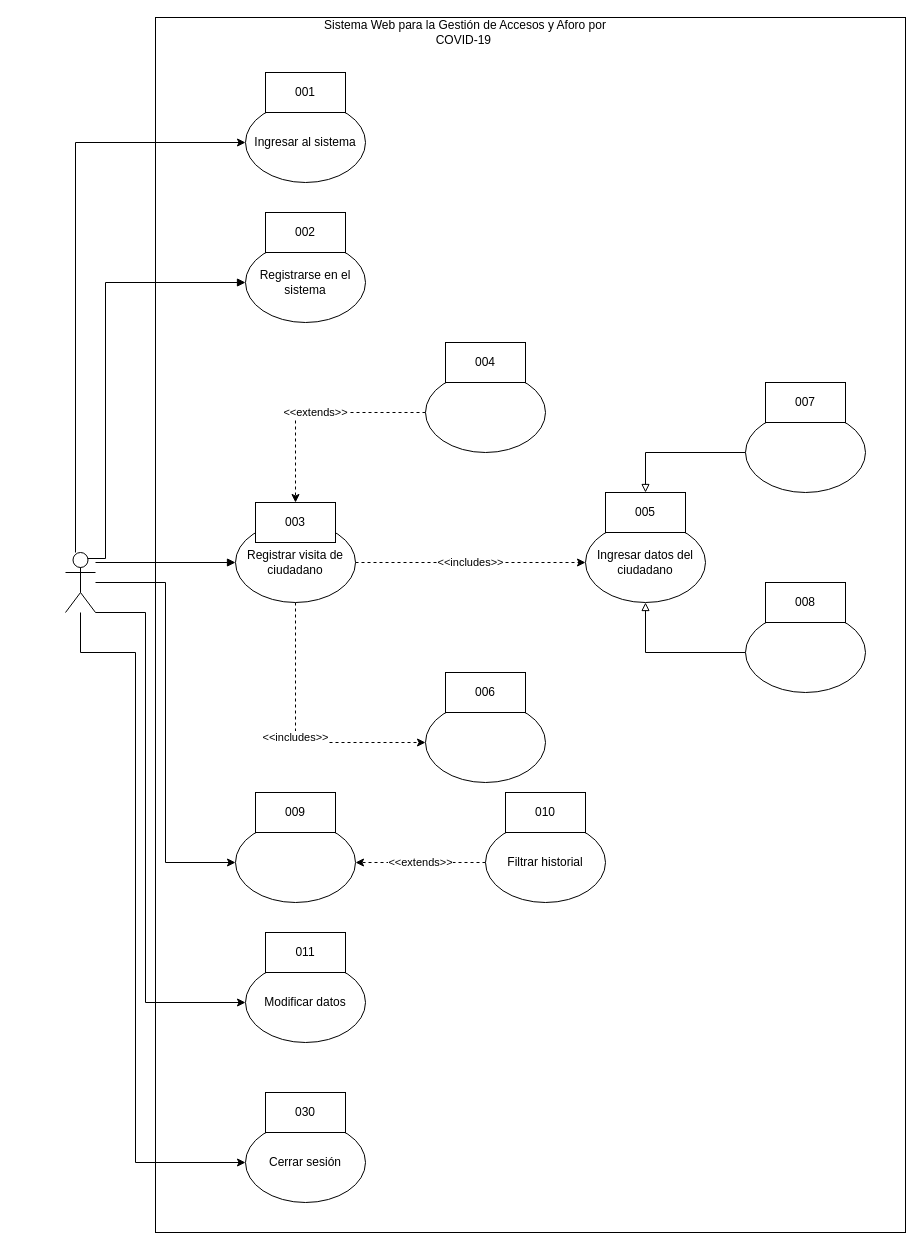
Some shapes in this 923 by 1250 pixel diagram are drawn without their labels. Each missing label, with the centre of its shape:
"Establecimiento público" goes at [80,582].
"Ingresar datos con código QR" goes at [805,452].
"Ingresar datos manualmente" goes at [805,652].
"Registrar cumplimiento de requisitos de ingreso" goes at [485,742].
"Registrar fecha y hora de la visita" goes at [485,412].
"Revisar historial de visitas" goes at [295,862].
